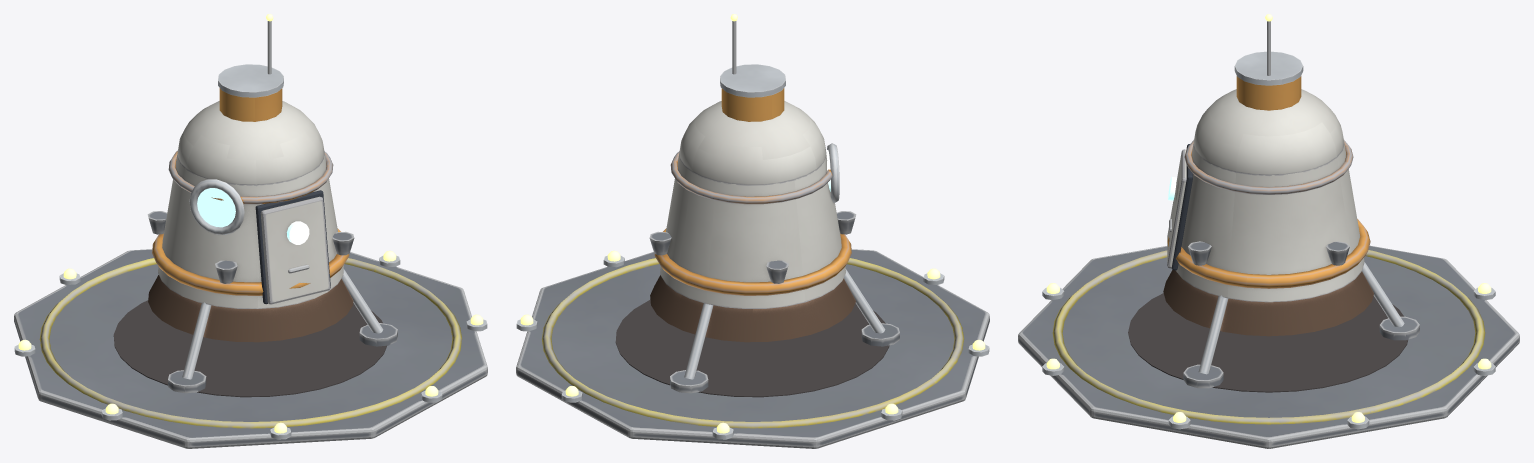
Rendered from landing_pod_painted.glb.
3 views of the same model, side by side, from view 1: azimuth 30°, elevation 25°; view 2: azimuth 150°, elevation 25°; view 3: azimuth 270°, elevation 25° (orthographic). The views are drawn at different scales.
Visible parts, largest first — view 1: Pad, Capsule, Hatch; view 2: Pad, Capsule; view 3: Pad, Capsule, Hatch.
Part boxes in pixels (box(x1,y1,x2,y2)): Pad: box(14, 249, 487, 448); Capsule: box(147, 14, 397, 393); Hatch: box(260, 196, 330, 304); Pad: box(516, 249, 989, 448); Capsule: box(649, 14, 899, 393); Pad: box(1018, 245, 1519, 448); Capsule: box(1163, 14, 1419, 388); Hatch: box(1167, 149, 1186, 268).
Size of the model in its own units: 4.99 by 3.72 by 4.99.
Materials: 10 (6 with a texture image).
